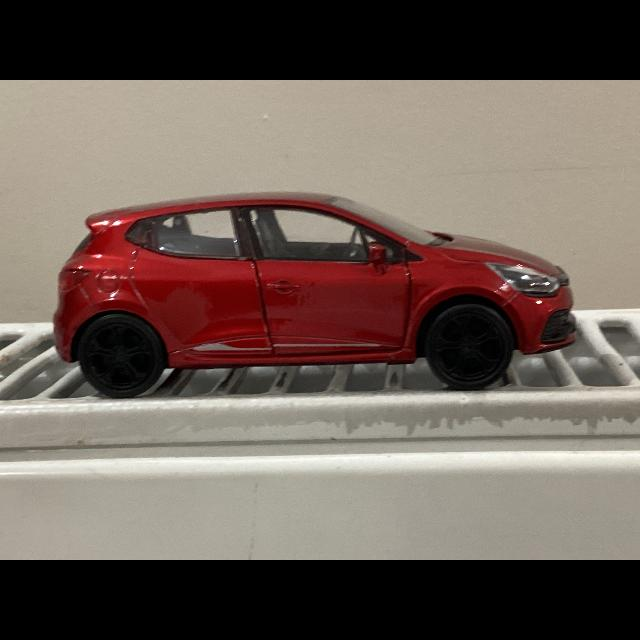Dogru_Jant: (433, 312, 502, 378), (86, 323, 152, 387)
